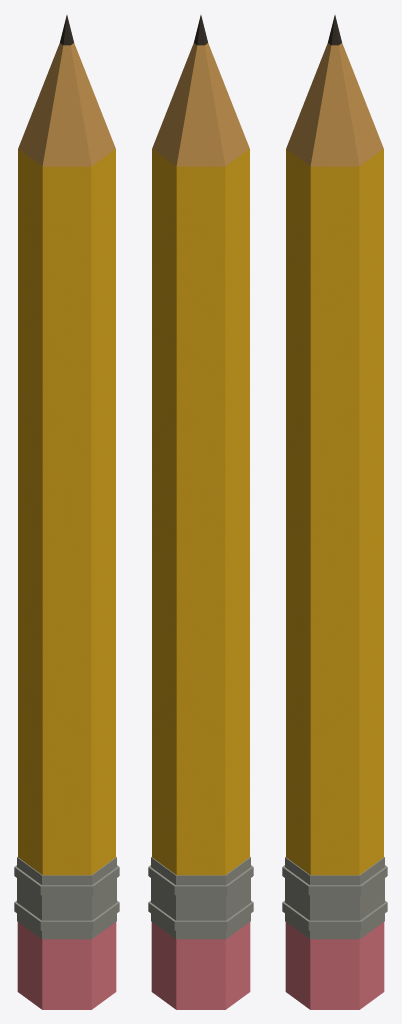
The model's file is pencil-column.fbx.
The picture shows the model from 3 angles, left to right: view 1: azimuth 90°, elevation 25°; view 2: azimuth 210°, elevation 25°; view 3: azimuth 270°, elevation 25°; orthographic projection.
Parts seen in each view (by area): view 1: pencil-column; view 2: pencil-column; view 3: pencil-column.
Part boxes in pixels (x1,y1,x2,y2): pencil-column: (14,15,119,1009); pencil-column: (148,15,253,1009); pencil-column: (282,15,387,1009).
Size of the model in its own units: 234 by 2760 by 270.
1 material, 1 textured.
